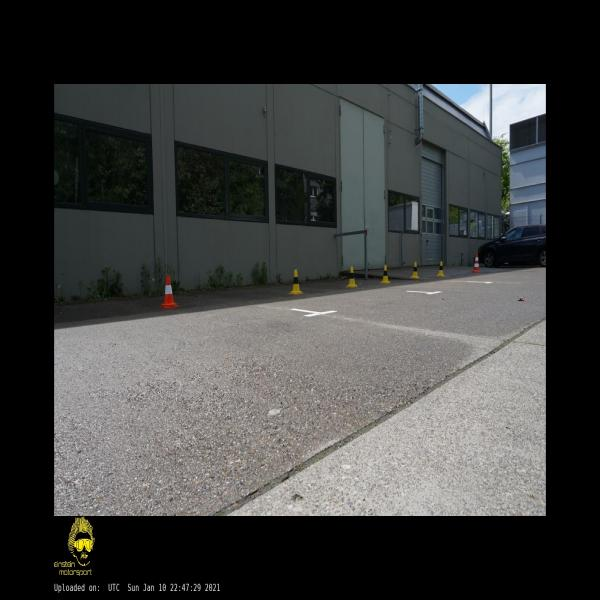large_orange_cone: (472, 252, 481, 272)
orange_cone: (159, 275, 179, 308)
yellow_cone: (289, 268, 303, 294), (346, 266, 357, 288), (380, 264, 391, 284), (411, 262, 419, 278), (436, 262, 444, 276)
